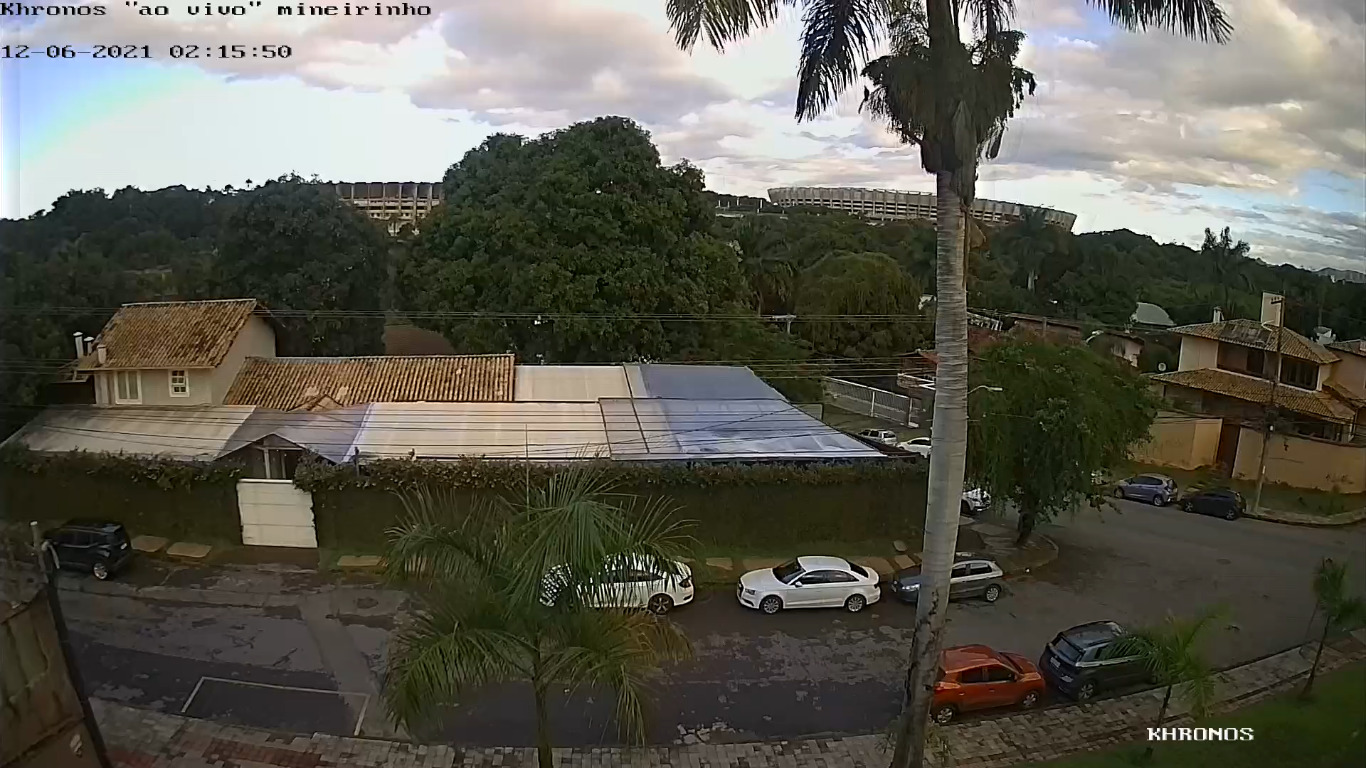car: (904, 644, 1046, 724), (1039, 618, 1170, 704), (536, 549, 694, 616), (735, 556, 882, 614), (892, 551, 1004, 607), (38, 516, 133, 581), (1111, 471, 1178, 507), (1179, 487, 1247, 520)
